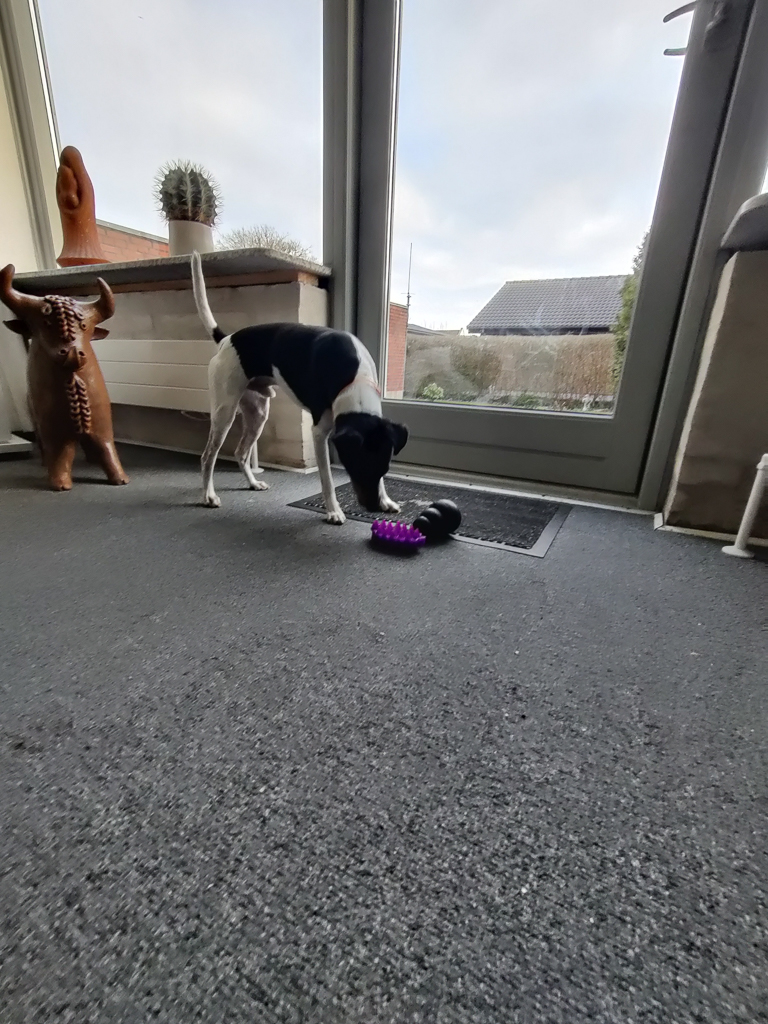Cattle: (0, 262, 141, 497)
Dog: (183, 246, 414, 528)
Eagle: (582, 393, 594, 411)
Humanoid: (50, 140, 115, 264)
